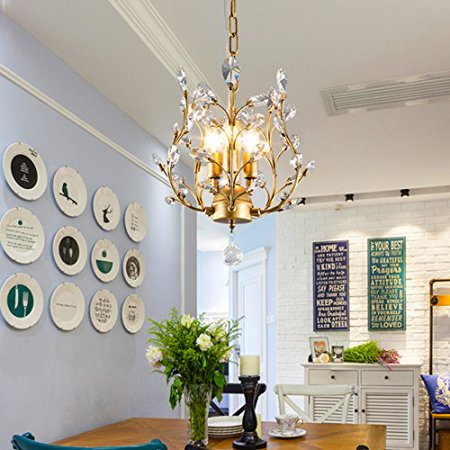chandelier: (150, 3, 317, 272)
